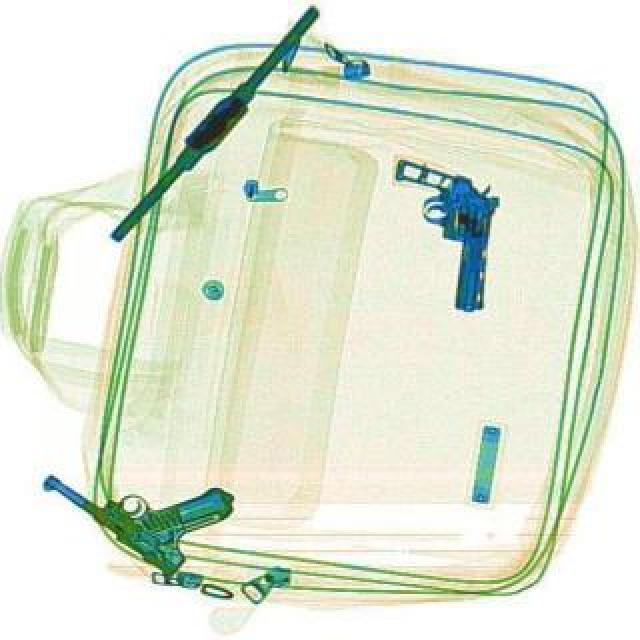gun: (42, 460, 246, 584), (378, 156, 506, 314)
